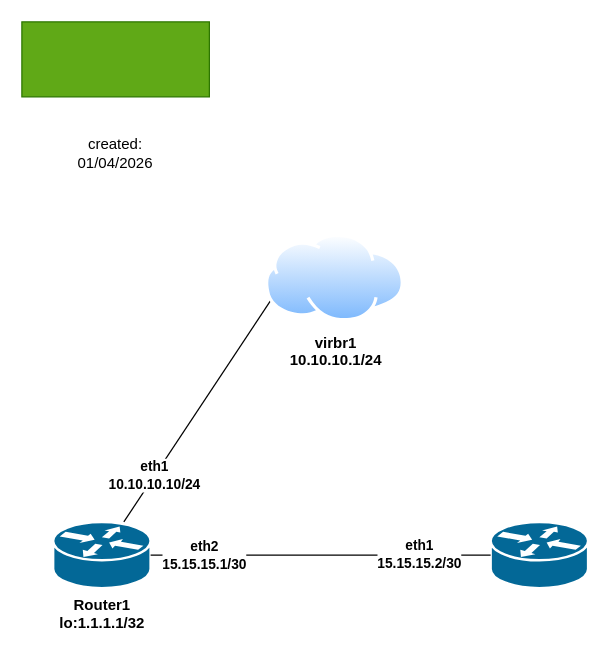
Some shapes in this 611 by 655 pixel diagram are drawn without their labels. The shapes that lost their labels are listed below. From the top down, each one's box as (x1, y1, x2, y2) in pixels, then its label:
(21, 21, 209, 97): Wireguard
(489, 520, 589, 589): Router2 lo:2.2.2.2/32
